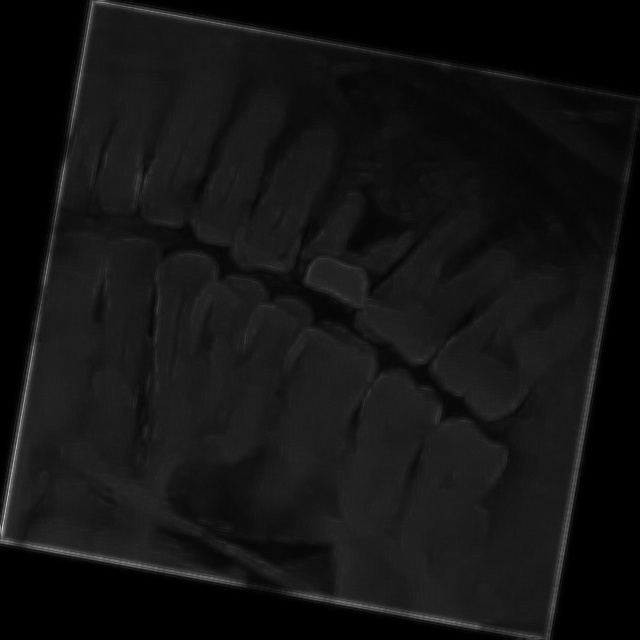Class 2- incomplete endodontic treatment: (258, 132, 446, 374)
